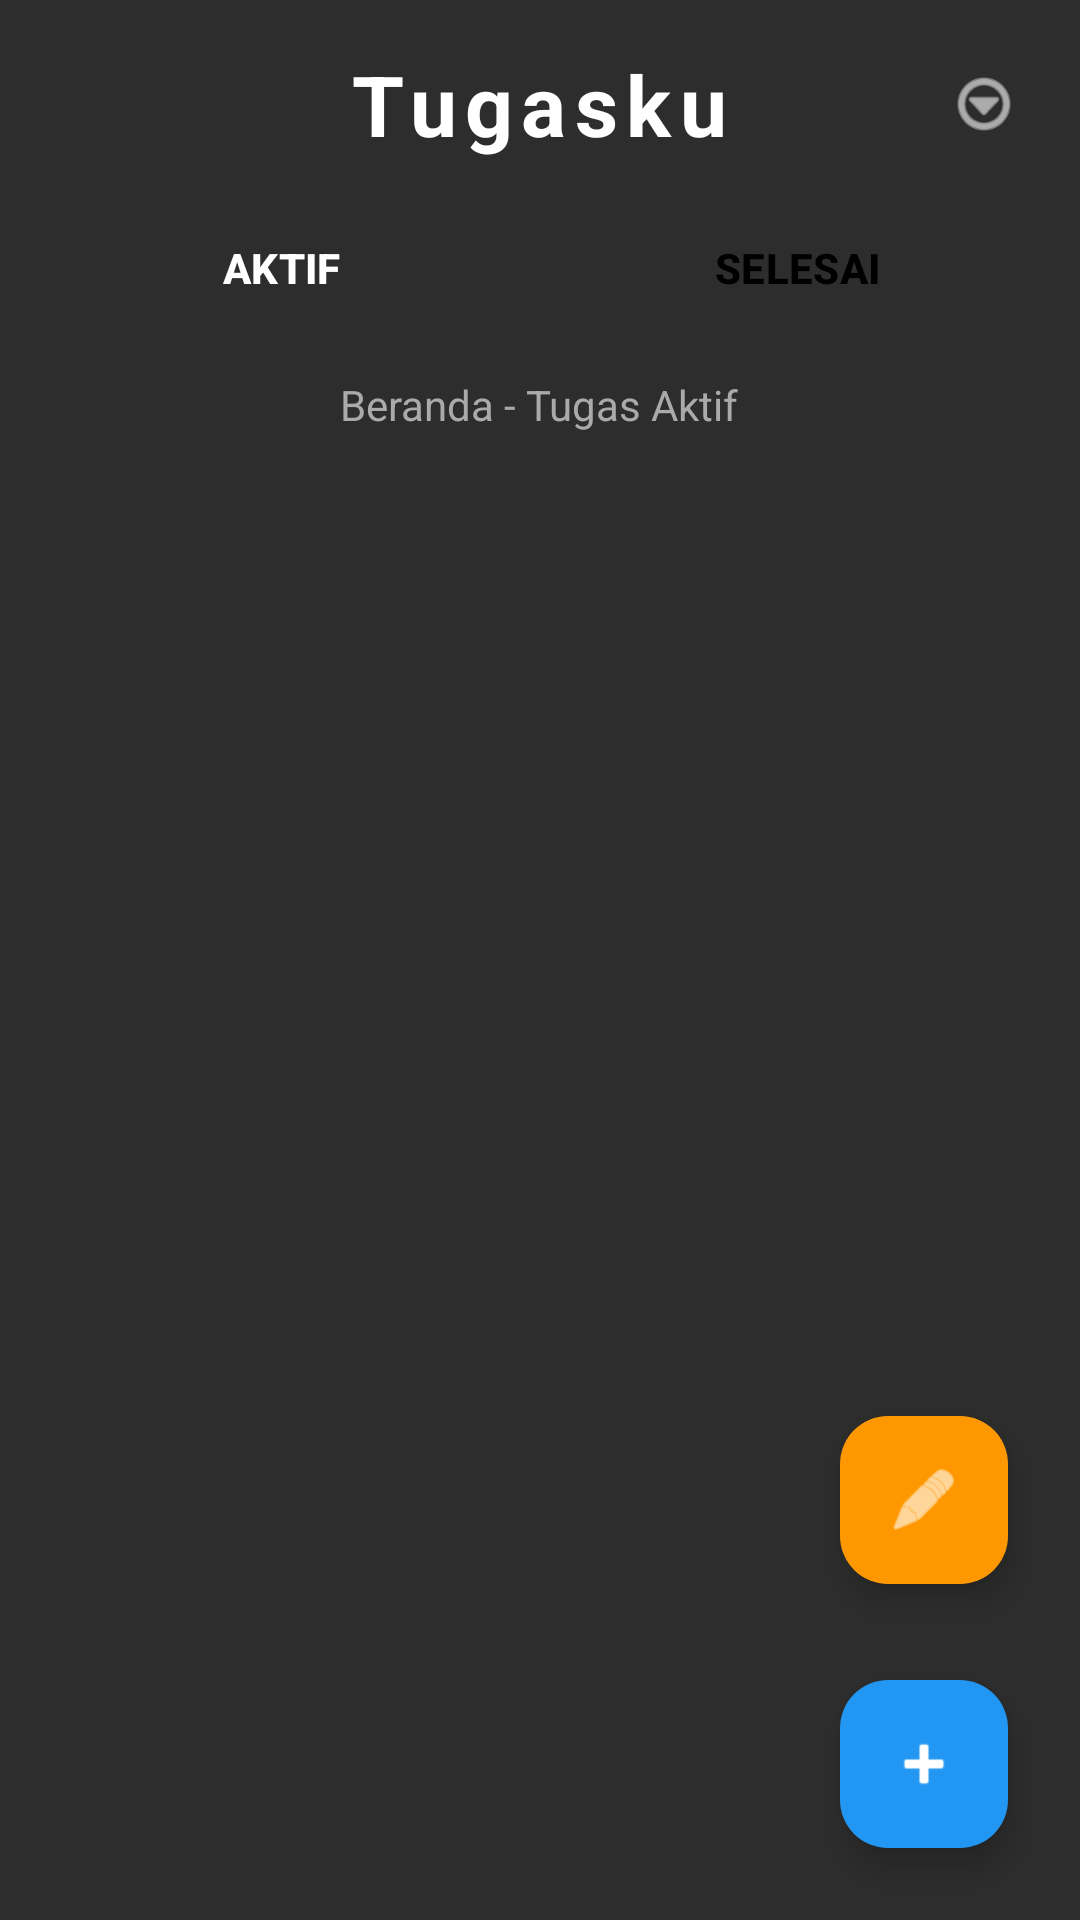

Screen size 1080x1920. Icon name, then its center in pixels as point (x, y):
Catatan Materi: point (924, 1500)
Menu: point (984, 104)
Tambah tugas: point (924, 1764)
